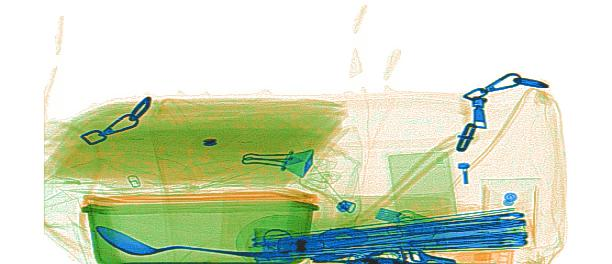USBFlashDisk: (373, 204, 439, 233)
